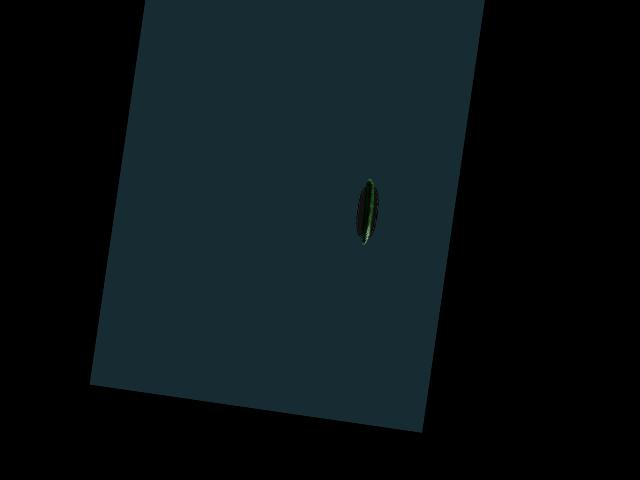cucumber: (357, 178, 377, 246)
